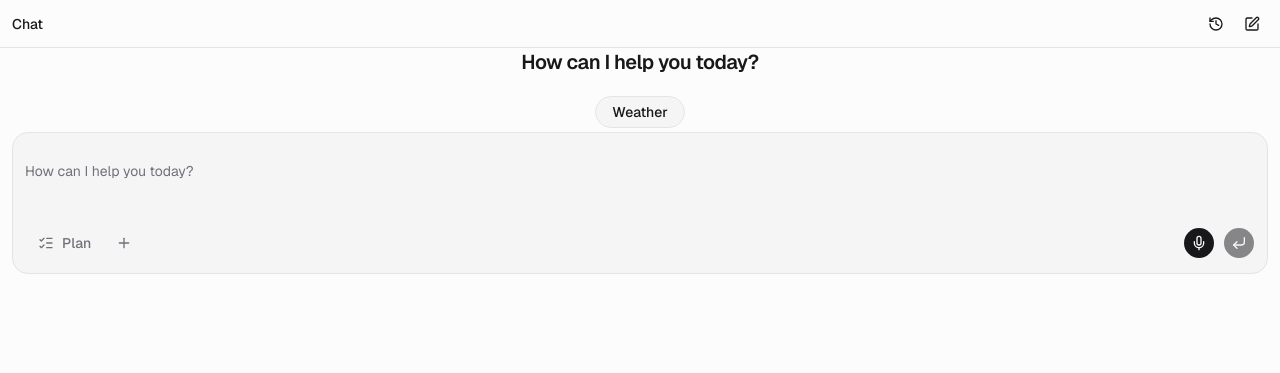
Test: ChatPanel — the parts that keep a run moving › a double click answers once and shows no error
Click the button "Weather" at [640, 112], box [595,96,685,128]
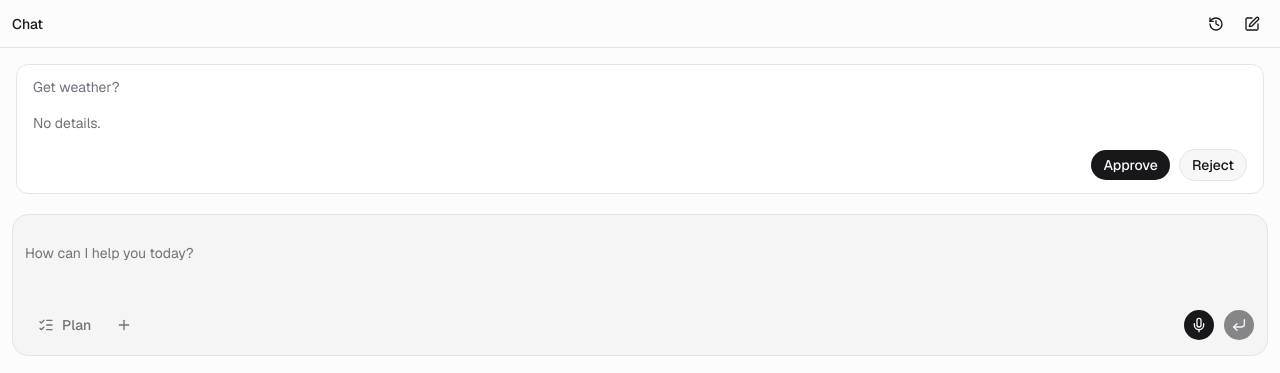
Click the button "Approve" at [1131, 165], box [1090,149,1171,181]
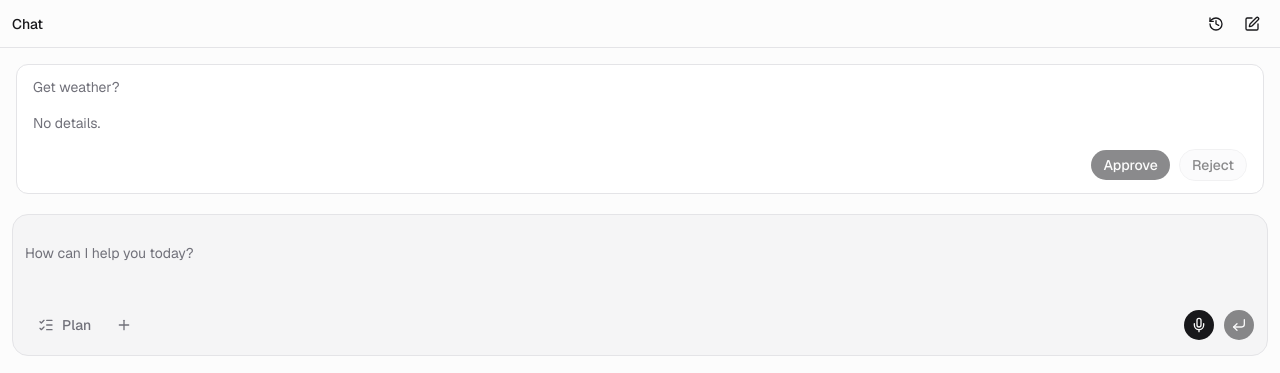
Click the button "Approve" at [1131, 165], box [1090,149,1171,181]
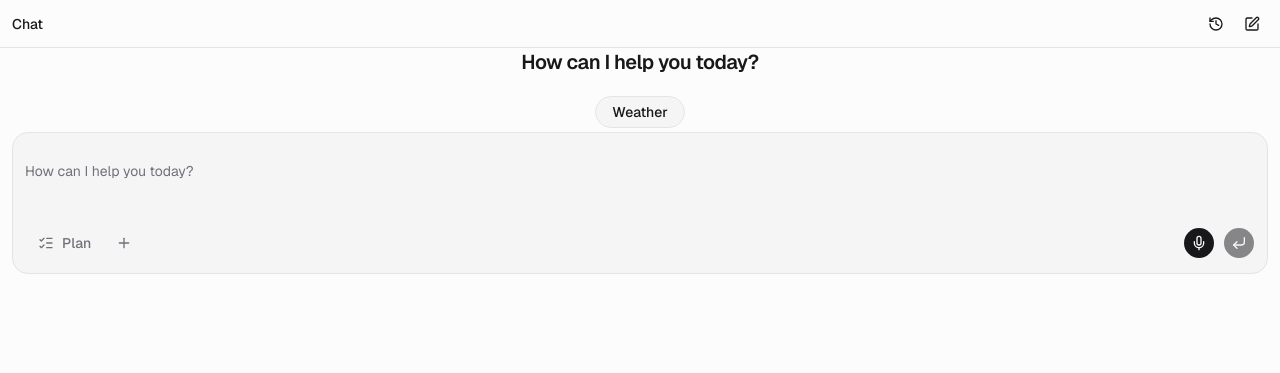
Expected: the text "Get weather?" is gone
